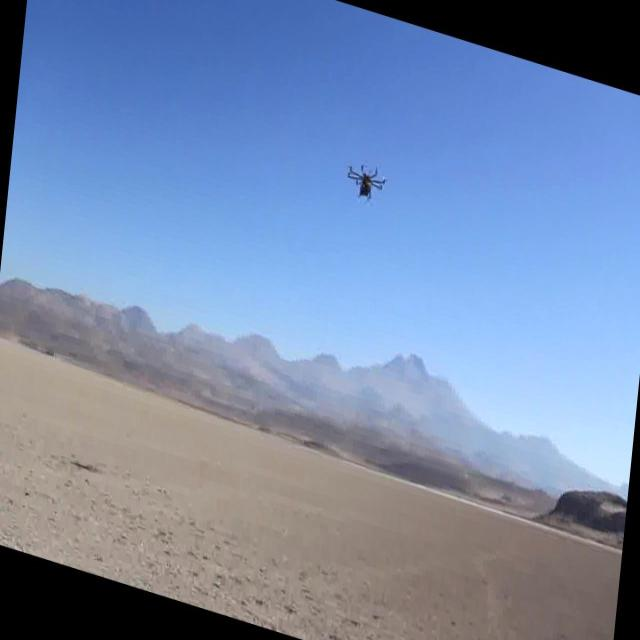drone: (344, 154, 389, 208)
